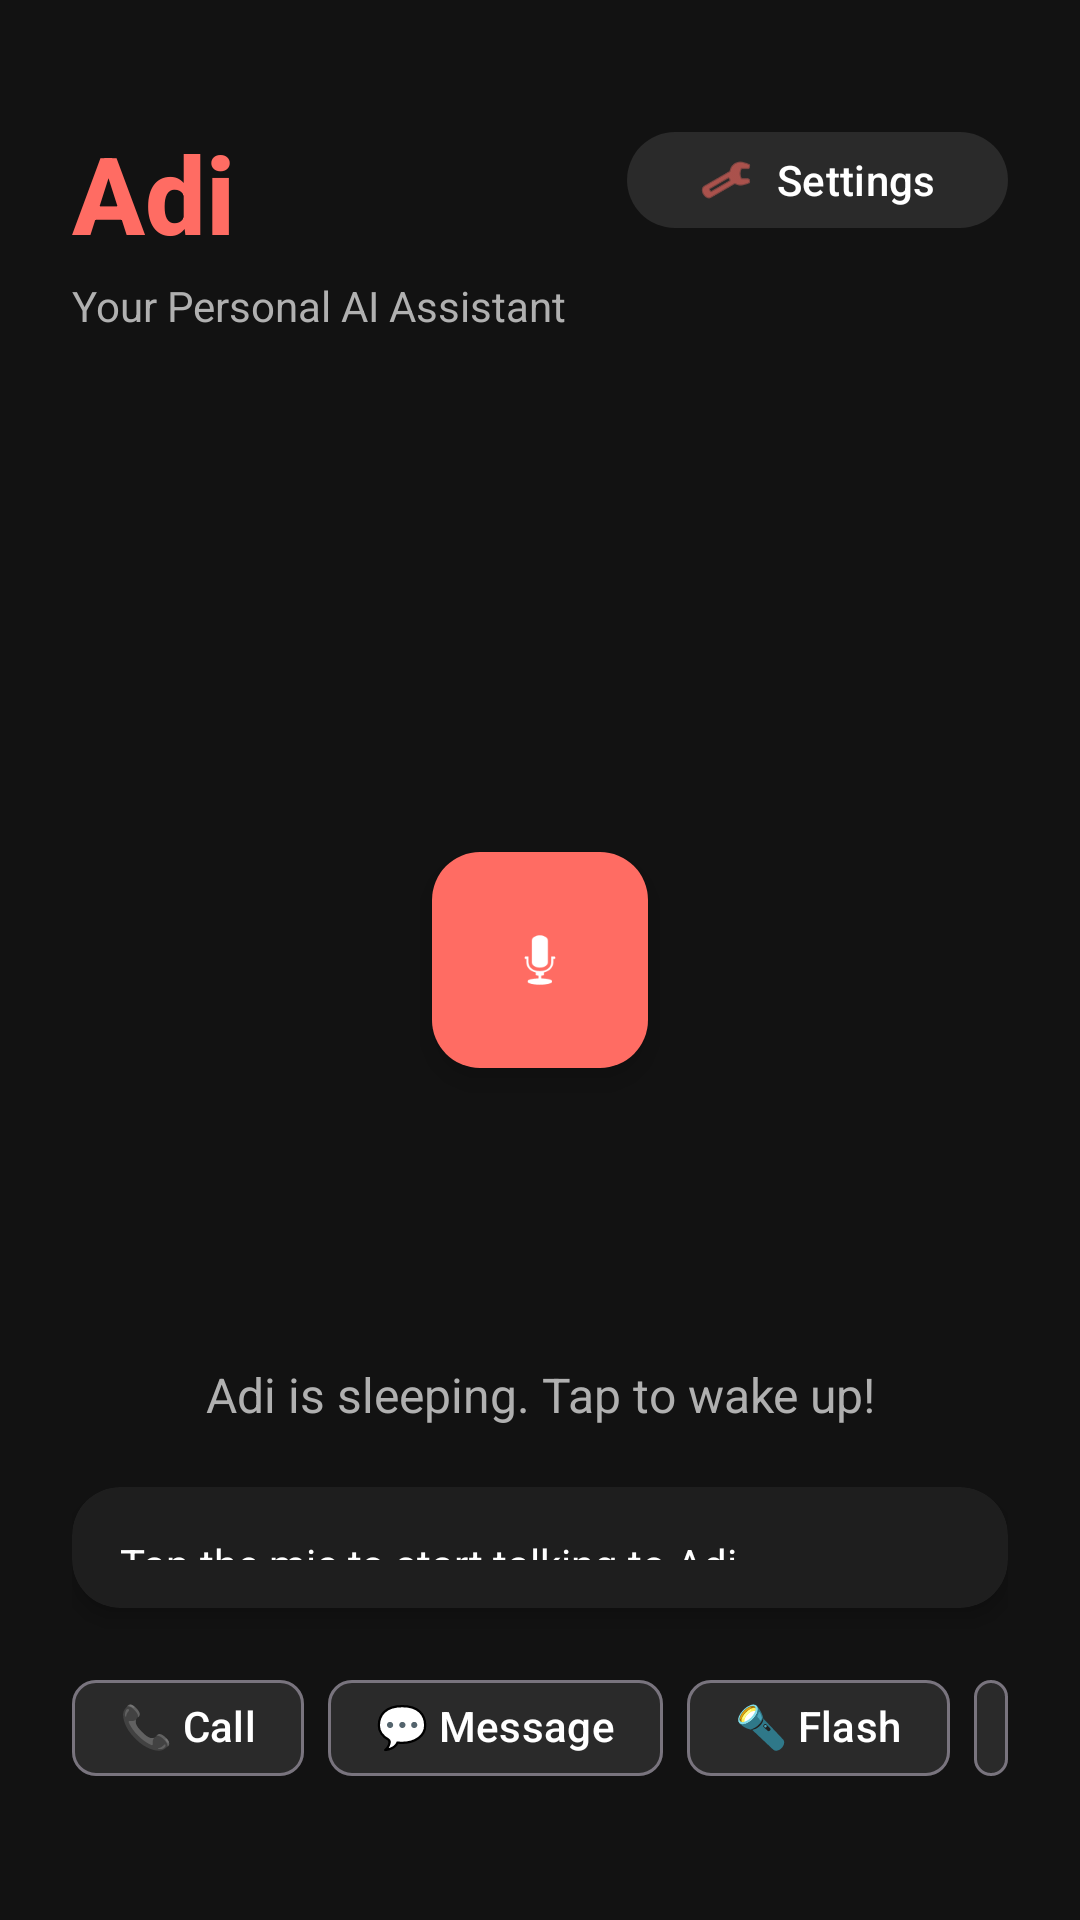

Screen size 1080*1920. Icon name, then its center in pixels as (x,y):
Toggle Assistant: (540,960)
